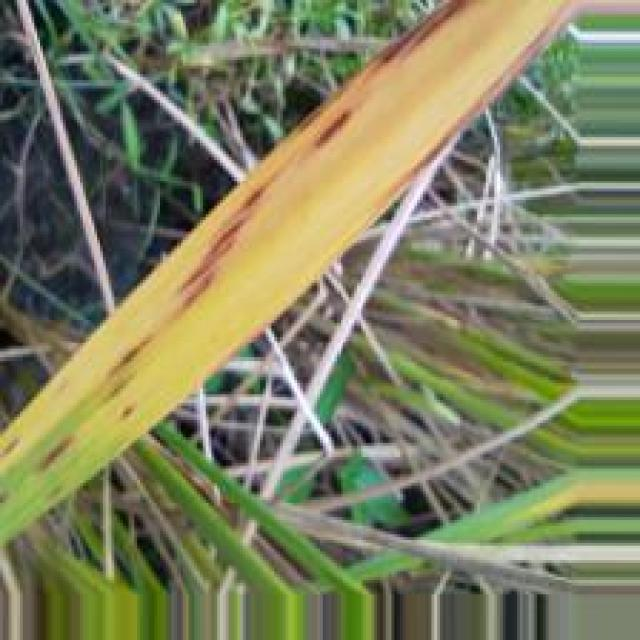Narrow_Brown_Leaf_Spot: (0, 0, 585, 475)
